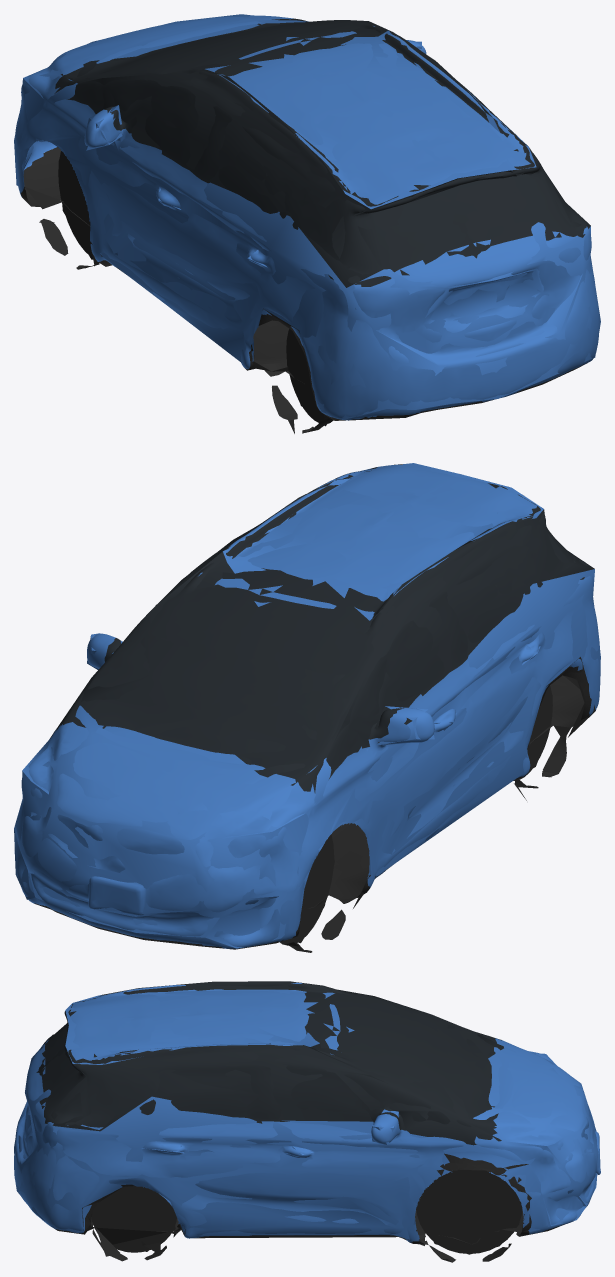
Rendered from kia-rondo.glb.
3 views of the same model, one above another, from view 1: azimuth 30°, elevation 25°; view 2: azimuth 150°, elevation 25°; view 3: azimuth 270°, elevation 25° (orthographic). The views are drawn at different scales.
Visible parts, largest first — view 1: body, far; view 2: body, far; view 3: body, far.
Part boxes in pixels (x1,y1,x2,y2): body: (15, 15, 598, 433); far: (14, 14, 600, 433); body: (14, 464, 600, 952); far: (14, 463, 600, 948); body: (14, 982, 600, 1262); far: (14, 981, 599, 1256).
Size of the model in its own units: 2.36 by 1.85 by 4.59.
